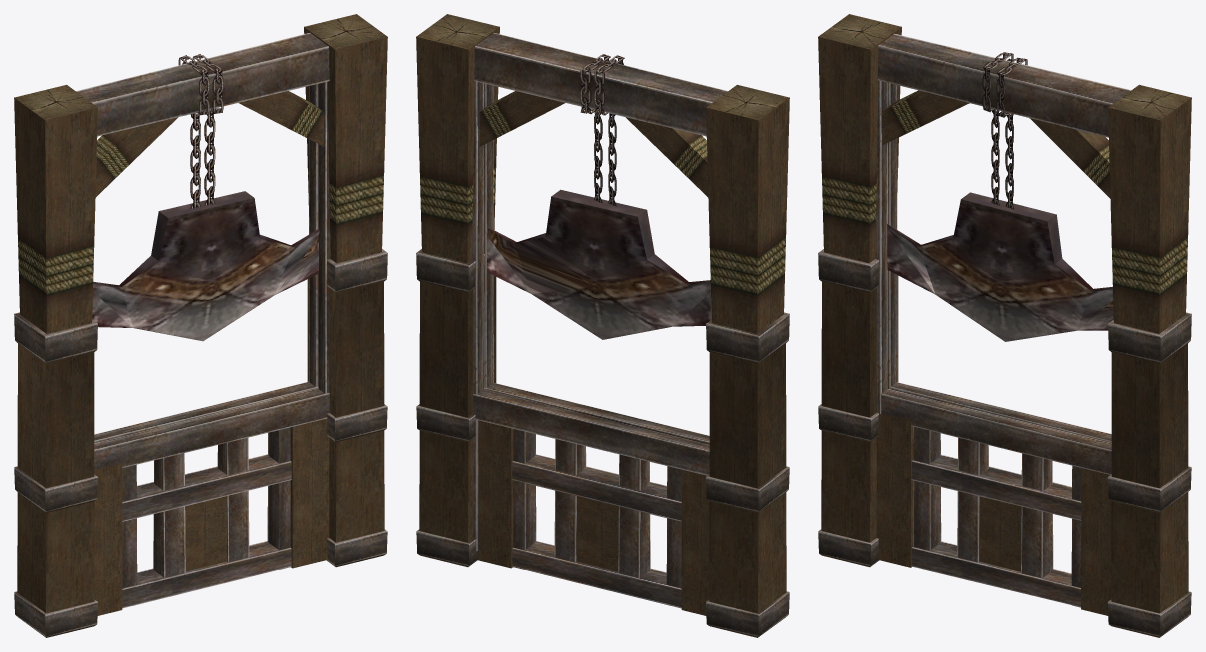
The model's file is environment_common_xingju01_d.FBX.
3 renders of one model, left to right at view 1: azimuth 30°, elevation 25°; view 2: azimuth 150°, elevation 25°; view 3: azimuth 330°, elevation 25°, orthographic.
Parts seen in each view (by area): view 1: environment_common_xingju01_d2, environment_common_xingju01_d1; view 2: environment_common_xingju01_d2, environment_common_xingju01_d1; view 3: environment_common_xingju01_d2, environment_common_xingju01_d1.
Boxes of the visible parts, x1,y1,x2,y2 form: environment_common_xingju01_d2: (14, 14, 387, 637); environment_common_xingju01_d1: (92, 191, 319, 341); environment_common_xingju01_d2: (416, 14, 789, 637); environment_common_xingju01_d1: (487, 189, 710, 339); environment_common_xingju01_d2: (818, 14, 1191, 637); environment_common_xingju01_d1: (887, 192, 1113, 341).
Size of the model in its own units: 495 by 724 by 78.02.
